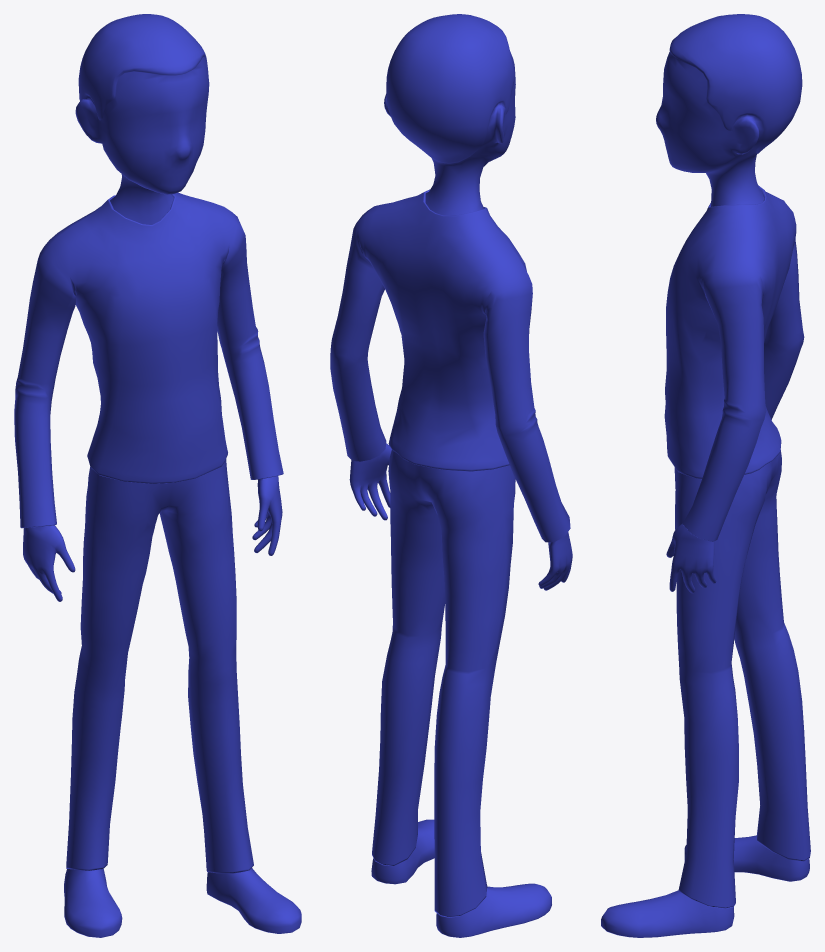
Rendered from african_head3.obj.
3 renders of one model, left to right at view 1: azimuth 30°, elevation 25°; view 2: azimuth 150°, elevation 25°; view 3: azimuth 270°, elevation 25°, orthographic.
Parts seen in each view (by area): view 1: root_ncl1_1; view 2: root_ncl1_1; view 3: root_ncl1_1.
Part boxes in pixels (x1,y1,x2,y2): root_ncl1_1: (14,14,301,937); root_ncl1_1: (330,14,572,937); root_ncl1_1: (601,14,810,937).
Bounding box in the file's own units: 4.52 × 15.95 × 3.49.
